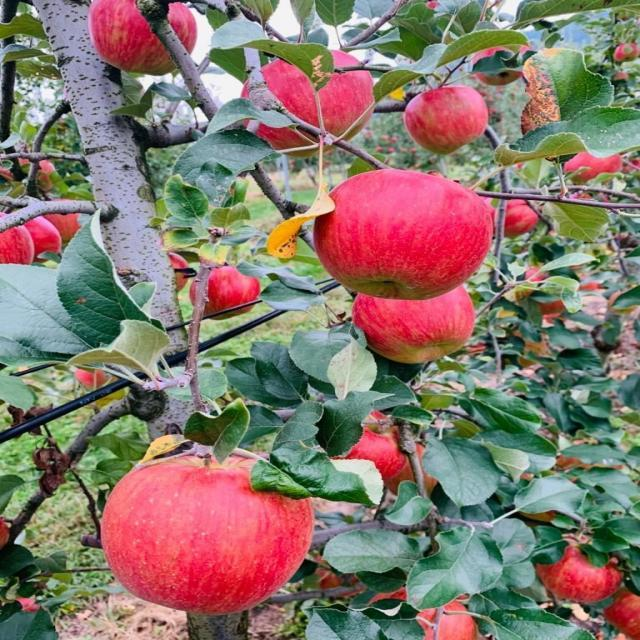Red Apple: (116, 455, 305, 603), (321, 172, 490, 294), (252, 51, 376, 142), (360, 277, 471, 357), (93, 1, 193, 68), (411, 91, 484, 143), (545, 544, 614, 594), (401, 600, 474, 640), (355, 415, 405, 468), (199, 268, 255, 311), (1, 217, 34, 263), (482, 45, 518, 87), (612, 593, 640, 634), (525, 274, 560, 305), (577, 150, 616, 176), (29, 217, 58, 250), (54, 213, 85, 239), (502, 203, 533, 228), (165, 255, 192, 282), (78, 367, 102, 388), (617, 47, 638, 64), (613, 73, 626, 81)
